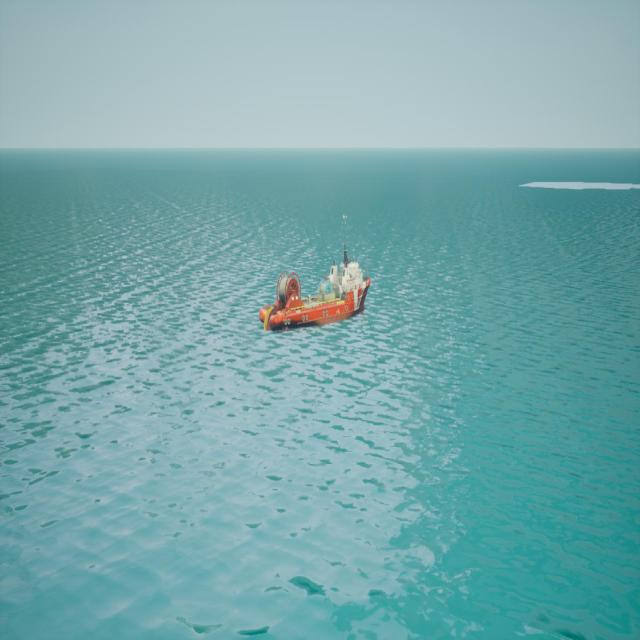tug boat: (261, 221, 374, 337)
